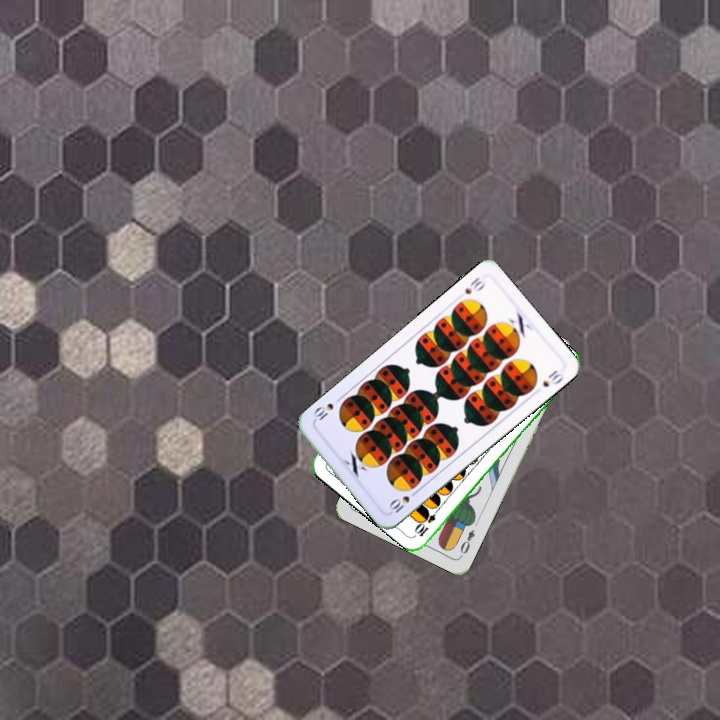E10: (412, 503, 443, 539)
EO: (456, 525, 477, 560)
S10: (385, 486, 421, 516), (461, 273, 488, 297)
